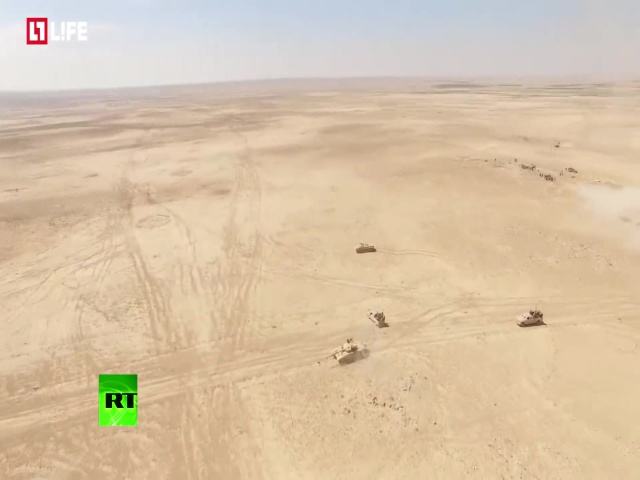vehicle: (329, 337, 370, 364), (514, 308, 545, 328), (365, 306, 388, 328), (354, 241, 376, 254)
